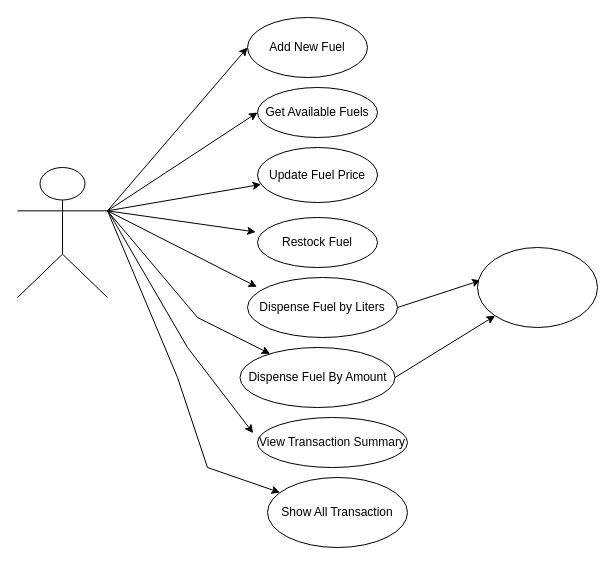
This 615x565 diagram has some shape labels left out. Each missing label, with the centre of its shape:
Generate Receipt: the point at 537,287
User/Attendant: the point at 62,232
